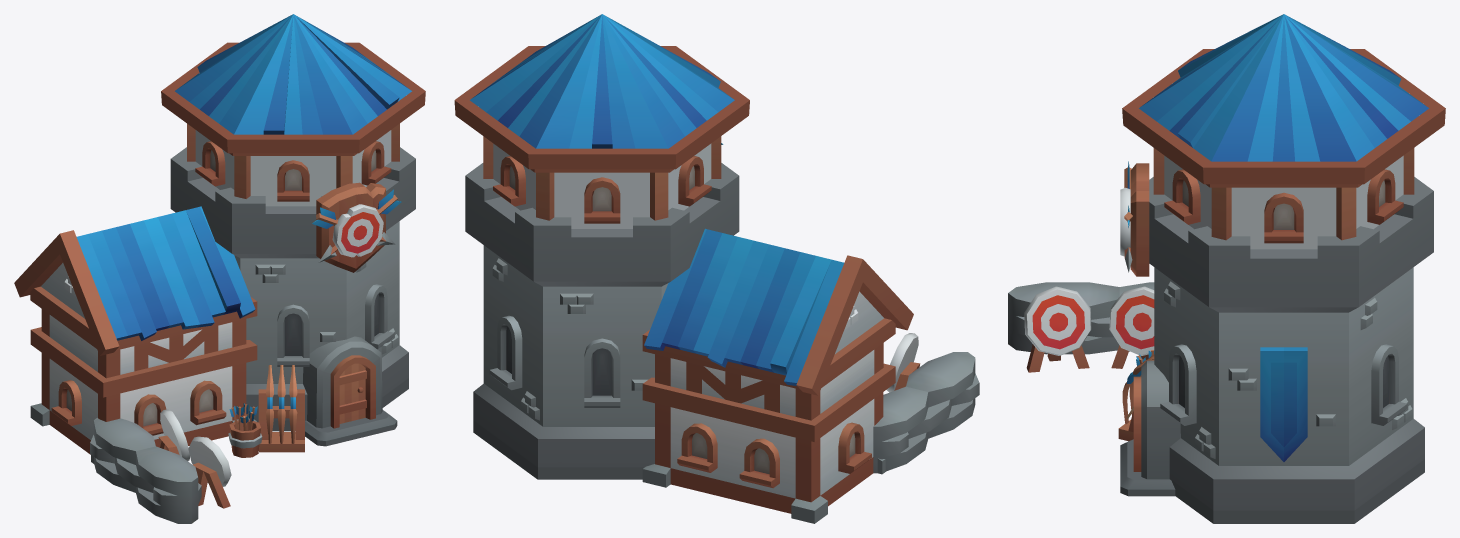
Rendered from kay-campo-arqueiros.gltf.
3 views of the same model, side by side, from view 1: azimuth 30°, elevation 25°; view 2: azimuth 150°, elevation 25°; view 3: azimuth 270°, elevation 25° (orthographic). The views are drawn at different scales.
Parts seen in each view (by area): view 1: building_archeryrange_blue; view 2: building_archeryrange_blue; view 3: building_archeryrange_blue.
Part boxes in pixels (x1,y1,x2,y2): building_archeryrange_blue: (14, 14, 425, 523); building_archeryrange_blue: (454, 14, 979, 523); building_archeryrange_blue: (1008, 14, 1445, 523).
Size of the model in its own units: 8.35 by 8.96 by 7.75.
Materials: 1 (1 with a texture image).
